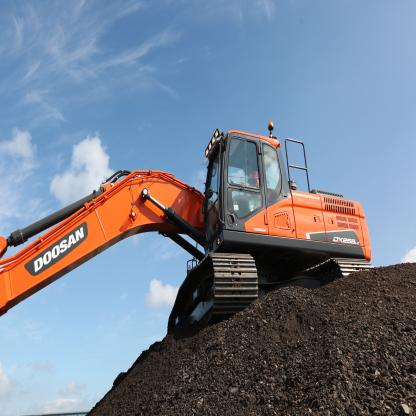excavator: (7, 62, 377, 342)
